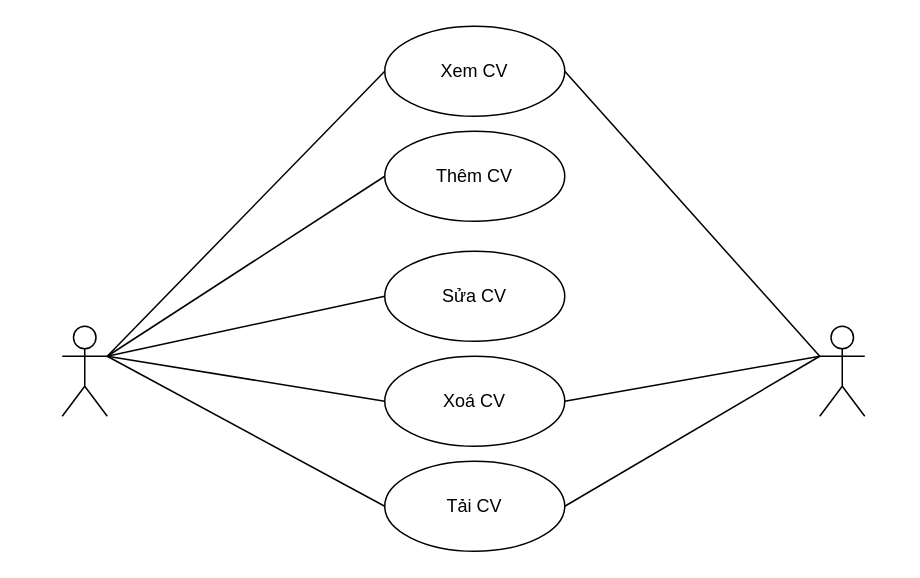
Some shapes in this 920 by 578 pixel diagram are drawn without their labels. The box of each missing label's shape, as (x1, y1, x2, y2) in pixels:
Người tìm việc: (61, 325, 107, 416)
Quản trị viên: (818, 325, 865, 416)
